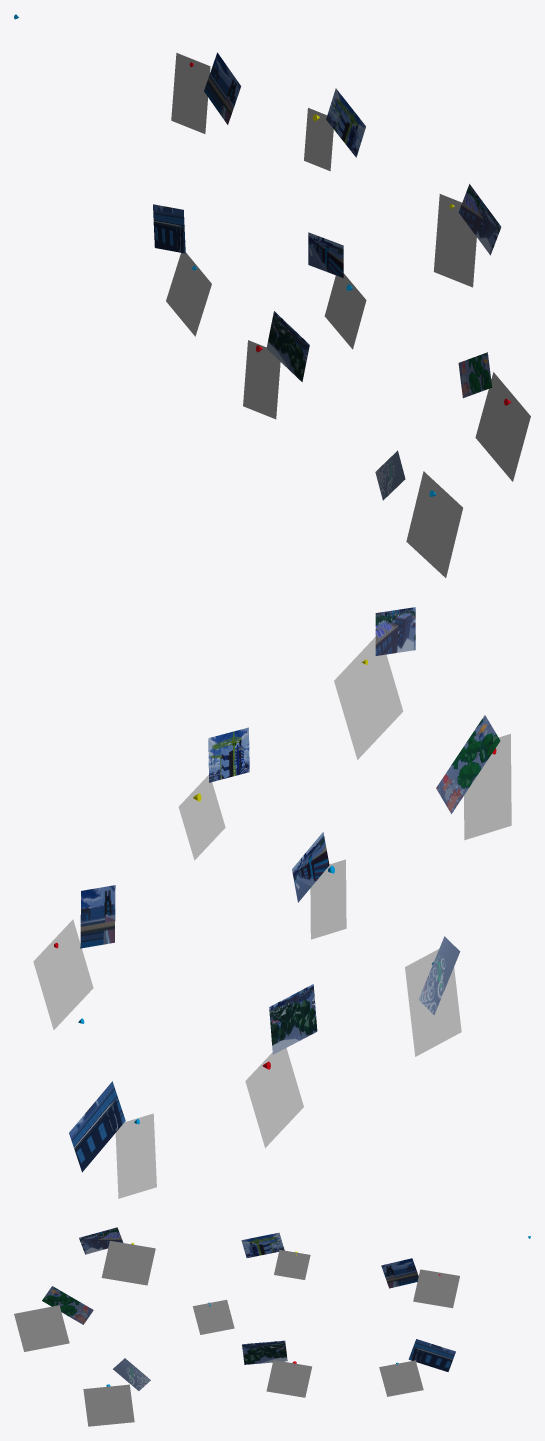
Rendered from BOARDcontent 1.fbx.
3 renders of one model, top to bottom at view 1: azimuth 30°, elevation 25°; view 2: azimuth 150°, elevation 25°; view 3: azimuth 270°, elevation 25°, orthographic. The views are drawn at different scales.
Visible parts, largest first — view 1: Plane.004, Plane.005, Plane.007, Plane.003, Plane.006, Plane.002, Plane.001, level2-3, level1-1verynew.001, level3-1, Plane, level1-2verynew.001 (+4 smaller); view 2: Plane.007, Plane.003, Plane.005, Plane.006, Plane.004, Plane.002, level3-3, level1-2verynew.001, Plane.001, level2-3, Plane, level1-1verynew.001 (+4 smaller); view 3: Plane.005, Plane.004, Plane.007, Plane.003, Plane.006, Plane.002, Plane.001, level1-2verynew.001, level2-3, level3-3, Plane, level1-1verynew.001 (+3 smaller).
Boxes of the visible parts, left/top/right/bottom form: Plane.004: left=406, top=471, right=462, bottom=577; Plane.005: left=475, top=372, right=530, bottom=481; Plane.007: left=433, top=194, right=476, bottom=287; Plane.003: left=171, top=53, right=210, bottom=133; Plane.006: left=243, top=340, right=280, bottom=419; Plane.002: left=166, top=252, right=211, bottom=336; Plane.001: left=324, top=273, right=366, bottom=349; level2-3: left=266, top=311, right=309, bottom=381; level1-1verynew.001: left=204, top=52, right=241, bottom=124; level3-1: left=458, top=184, right=501, bottom=255; Plane: left=304, top=108, right=333, bottom=171; level1-2verynew.001: left=153, top=204, right=185, bottom=253; Plane.007: left=334, top=637, right=403, bottom=759; Plane.003: left=33, top=919, right=93, bottom=1029; Plane.005: left=464, top=734, right=511, bottom=840; Plane.006: left=245, top=1048, right=303, bottom=1147; Plane.004: left=405, top=949, right=461, bottom=1056; Plane.002: left=115, top=1113, right=156, bottom=1198; level3-3: left=436, top=715, right=500, bottom=813; level1-2verynew.001: left=69, top=1081, right=125, bottom=1172; Plane.001: left=310, top=859, right=346, bottom=939; level2-3: left=269, top=984, right=317, bottom=1054; Plane: left=178, top=775, right=225, bottom=860; level1-1verynew.001: left=80, top=885, right=115, bottom=948; Plane.005: left=14, top=1305, right=69, bottom=1351; Plane.004: left=83, top=1384, right=134, bottom=1426; Plane.007: left=101, top=1241, right=155, bottom=1285; Plane.003: left=413, top=1269, right=459, bottom=1308; Plane.006: left=266, top=1360, right=312, bottom=1397; Plane.002: left=379, top=1360, right=423, bottom=1396; Plane.001: left=192, top=1299, right=234, bottom=1334; level1-2verynew.001: left=408, top=1339, right=455, bottom=1371; level2-3: left=242, top=1340, right=287, bottom=1364; level3-3: left=42, top=1286, right=93, bottom=1324; Plane: left=274, top=1249, right=310, bottom=1279; level1-1verynew.001: left=381, top=1258, right=418, bottom=1288.
Size of the model in its own units: 62.75 by 204 by 447.
17 materials, 8 textured.
